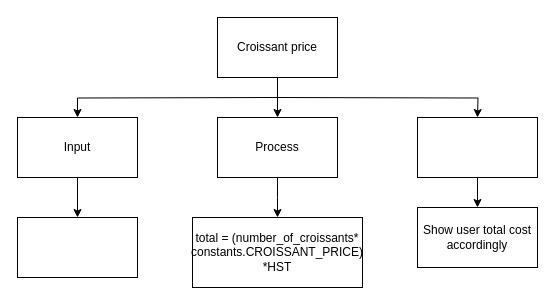
The diagram is 555 pixels wide and 305 high, and some of its shapes have lost their labels. Each missing label, with the centre of its shape:
"get number of croissants from user" goes at point 77,247.
"Output" goes at point 477,147.
